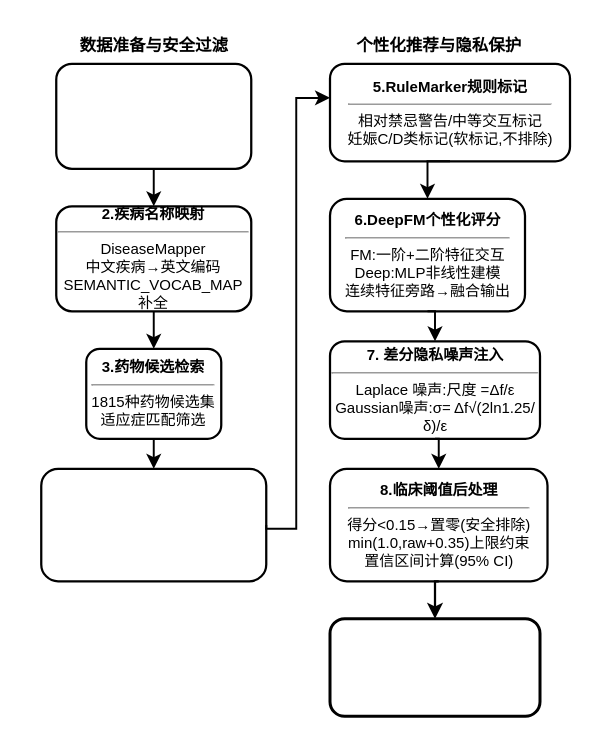
Some shapes in this 597 by 743 pixel diagram are drawn without their labels. Each missing label, with the centre of its shape:
1.获取患者信息 基本信息/疾病史/过敏史 当前用药/生理指标 (肾功能,肝功能,BMI等): point (153, 115)
4.SafetyFilter安全过滤 绝对禁忌症/过敏冲突排除 妊娠X类/重大药物交互排除 儿科禁忌排除(确定性硬排除): point (153, 524)
9.输出推荐结果 按评分排序的推荐列表 含安全标记/置信区间/解释: point (434, 666)
